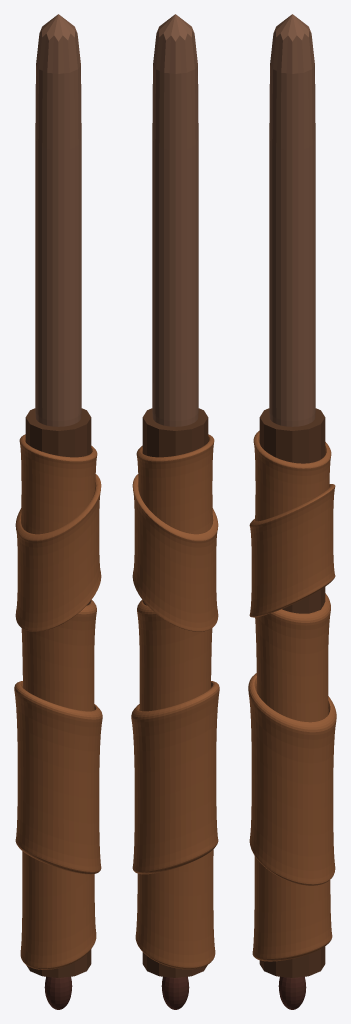
File: Wand 316.glb
3 views of the same model, side by side, from view 1: azimuth 30°, elevation 25°; view 2: azimuth 150°, elevation 25°; view 3: azimuth 330°, elevation 25° (orthographic).
Parts seen in each view (by area): view 1: GeneratedWand; view 2: GeneratedWand; view 3: GeneratedWand.
Part boxes in pixels (box(x1,y1,x2,y2)): GeneratedWand: box(14, 14, 102, 1009); GeneratedWand: box(131, 14, 219, 1009); GeneratedWand: box(248, 14, 336, 1009).
Bounding box in the file's own units: 0.0408 × 0.5066 × 0.0408.
